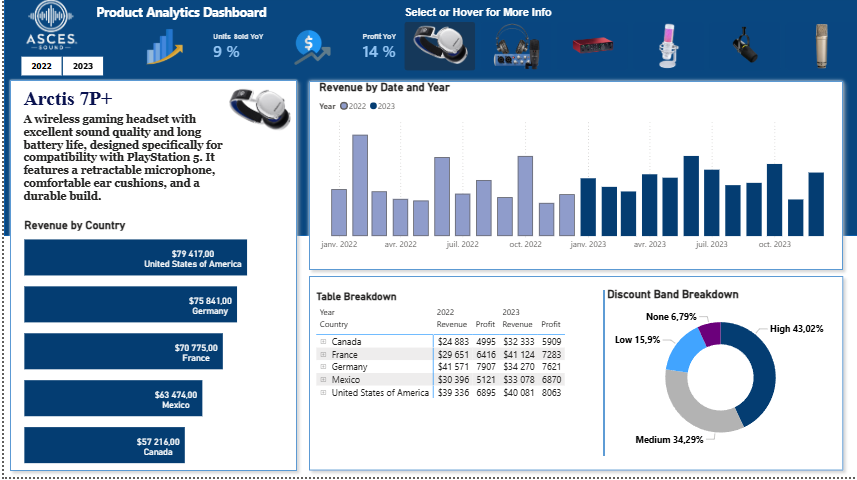

Layout of this report page (visuals, bound fields, positions):
{"tool":"powerbi","page":{"name":"Page 1","canvas":[1280,720],"ordinal":0},"visuals":[{"type":"shape","box":[0,0,1280.2,360],"z":0},{"type":"advancedSlicerVisual","title":"Select or Hover for More Info ","fields":{"Values":["Query1.Image_url"]},"box":[593,17.9,687.1,100.1],"z":1000},{"type":"shape","box":[446.6,119.5,815.6,300.2],"z":2000},{"type":"shape","box":[446.9,411.1,816,308.3],"z":3000},{"type":"image","box":[0,0,132.9,85.1],"z":4000},{"type":"columnChart","title":"Revenue by Date and Year","fields":{"Y":["Sum(Query1.Revenue)"],"Series":["Query1.Year"],"Category":["Query1.Date"]},"box":[465.6,127.7,778.6,263.2],"z":5000},{"type":"shape","box":[0,118,446.6,602],"z":6000},{"type":"cardVisual","fields":{"Data":["Min(Query1.Description)"]},"box":[0,119.5,363,245],"z":7000},{"type":"cardVisual","fields":{"Data":["Min(Query1.product)"]},"box":[316.7,127,130,91.1],"z":8000},{"type":"clusteredBarChart","title":" Revenue by Country","fields":{"Category":["Query1.Country"],"Y":["Sum(Query1.Revenue)"]},"box":[25.4,333.1,403.3,373.4],"z":9000},{"type":"donutChart","title":"Discount Band Breakdown","fields":{"Category":["Query1.Discount_Band"],"Y":["Sum(Query1.Revenue)"]},"box":[896.3,436.2,348,251],"z":10000},{"type":"pivotTable","title":"Table Breakdown","fields":{"Rows":["Query1.Country","Query1.Year"],"Values":["Sum(Query1.Revenue)","Sum(Query1.Profit)"],"Columns":["Query1.Year"]},"box":[461.6,440.7,412.3,195.7],"z":11000},{"type":"shape","box":[888.8,440.7,14.9,248],"z":12000},{"type":"cardVisual","fields":{"Data":["Query1.Units Sold YoY","Query1.Profit YoY"]},"box":[171.8,43.3,457.1,68.7],"z":13000},{"type":"slicer","fields":{"Values":["Date Table.Date.Variation.Date Hierarchy.Year"]},"box":[0,85.1,171.8,41.8],"z":14000},{"type":"cardVisual","fields":{"Data":["Min(Query1.product)"]},"box":[0,118,466.1,71.7],"z":15000},{"type":"textbox","box":[132.9,7.5,377.9,37.3],"z":15001}]}

Visuals, with their boxes in screenshot pixels (x1, y1, x2, y2), scaled from the page's 1280x720 canvas onto the 857x480 screenshot:
shape: <bbox>0, 0, 856, 240</bbox>
"Select or Hover for More Info " advancedSlicerVisual: <bbox>397, 12, 856, 79</bbox>
shape: <bbox>299, 80, 845, 280</bbox>
shape: <bbox>299, 274, 846, 479</bbox>
image: <bbox>0, 0, 89, 57</bbox>
"Revenue by Date and Year" columnChart: <bbox>312, 85, 833, 261</bbox>
shape: <bbox>0, 79, 299, 479</bbox>
cardVisual - Min(Query1.Description): <bbox>0, 80, 243, 243</bbox>
cardVisual - Min(Query1.product): <bbox>212, 85, 299, 145</bbox>
" Revenue by Country" clusteredBarChart: <bbox>17, 222, 287, 471</bbox>
"Discount Band Breakdown" donutChart: <bbox>600, 291, 833, 458</bbox>
"Table Breakdown" pivotTable: <bbox>309, 294, 585, 424</bbox>
shape: <bbox>595, 294, 605, 459</bbox>
cardVisual - Query1.Units Sold YoY x Query1.Profit YoY: <bbox>115, 29, 421, 75</bbox>
slicer - Date Table.Date.Variation.Date Hierarchy.Year: <bbox>0, 57, 115, 85</bbox>
cardVisual - Min(Query1.product): <bbox>0, 79, 312, 126</bbox>
textbox: <bbox>89, 5, 342, 30</bbox>
